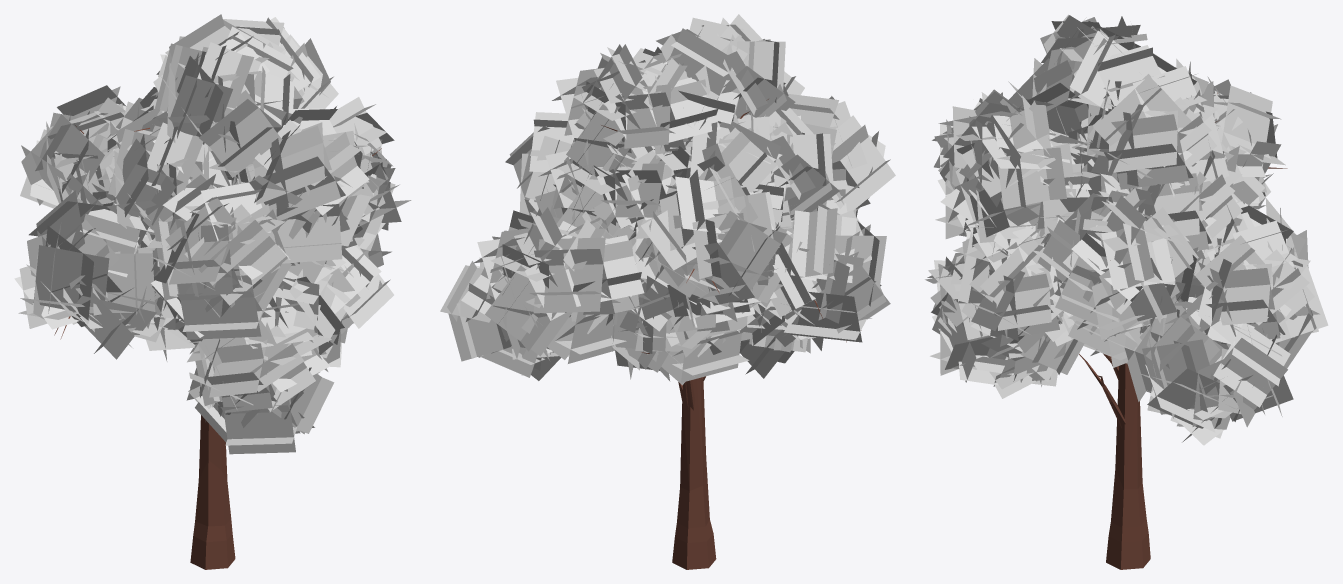
Rendered from tree-test.glb.
3 renders of one model, left to right at view 1: azimuth 30°, elevation 25°; view 2: azimuth 150°, elevation 25°; view 3: azimuth 270°, elevation 25°, orthographic. The views are drawn at different scales.
Visible parts, largest first — view 1: leaves, tree; view 2: leaves, tree; view 3: leaves, tree.
Part boxes in pixels (x1,y1,x2,y2): leaves: (14,14,411,454); tree: (54,125,381,569); leaves: (440,14,895,385); tree: (601,99,861,569); leaves: (925,14,1328,445); tree: (1079,92,1287,569).
Size of the model in its own units: 23.22 by 30.69 by 20.8.
